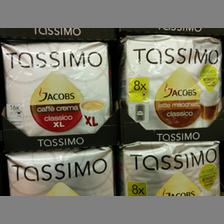Kaffee: (0, 40, 108, 135), (118, 35, 222, 129), (114, 139, 222, 193), (3, 146, 114, 194)
